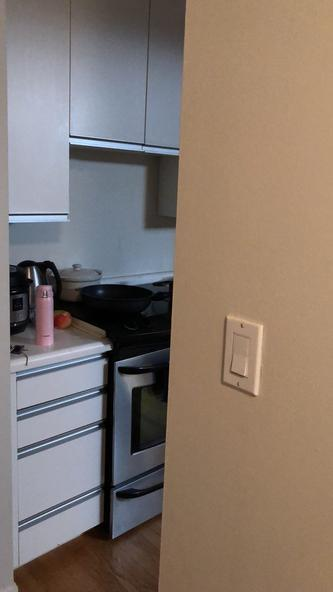switch: (227, 329, 253, 382)
